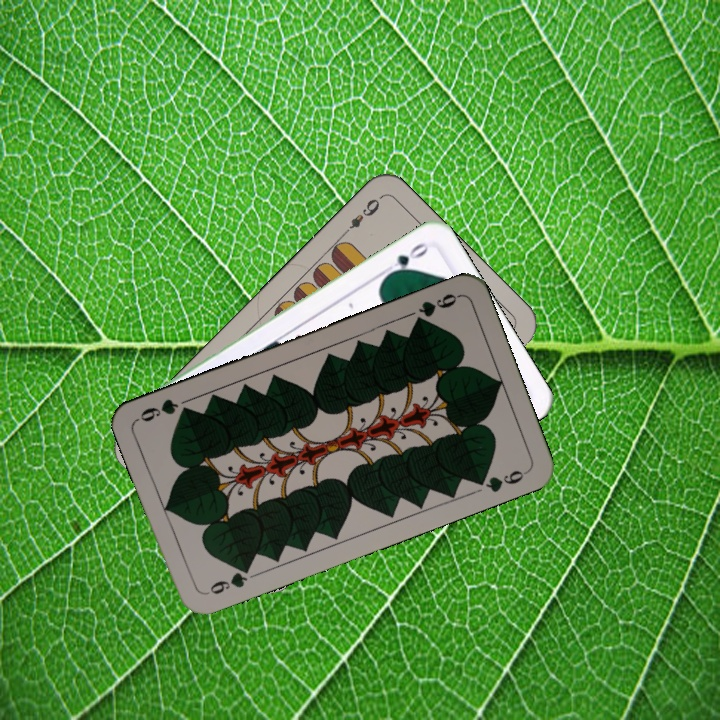E9: (338, 194, 383, 239)
G9: (409, 289, 462, 328), (201, 561, 254, 598)
GO: (378, 238, 432, 280)
